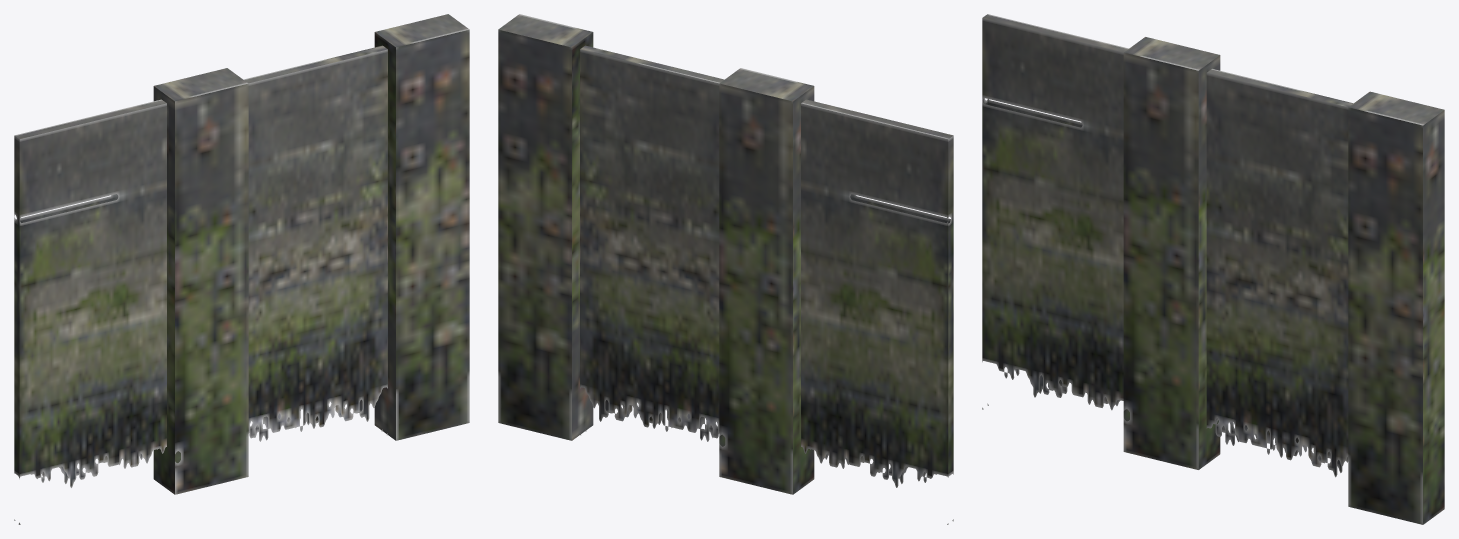
The model's file is FenceWoodPlanks02.obj.
3 renders of one model, left to right at view 1: azimuth 30°, elevation 25°; view 2: azimuth 150°, elevation 25°; view 3: azimuth 330°, elevation 25°, orthographic.
Parts seen in each view (by area): view 1: WoodFencePlanks02, WoodFencePlanks02Post; view 2: WoodFencePlanks02, WoodFencePlanks02Post; view 3: WoodFencePlanks02, WoodFencePlanks02Post.
Part boxes in pixels (x1=…): WoodFencePlanks02: x1=14, y1=14, x2=469, y2=524; WoodFencePlanks02Post: x1=153, y1=68, x2=248, y2=494; WoodFencePlanks02: x1=498, y1=14, x2=953, y2=524; WoodFencePlanks02Post: x1=719, y1=68, x2=814, y2=494; WoodFencePlanks02: x1=982, y1=14, x2=1444, y2=524; WoodFencePlanks02Post: x1=1123, y1=37, x2=1220, y2=469.
Bounding box in the file's own units: 2.4 × 2.04 × 0.2.
